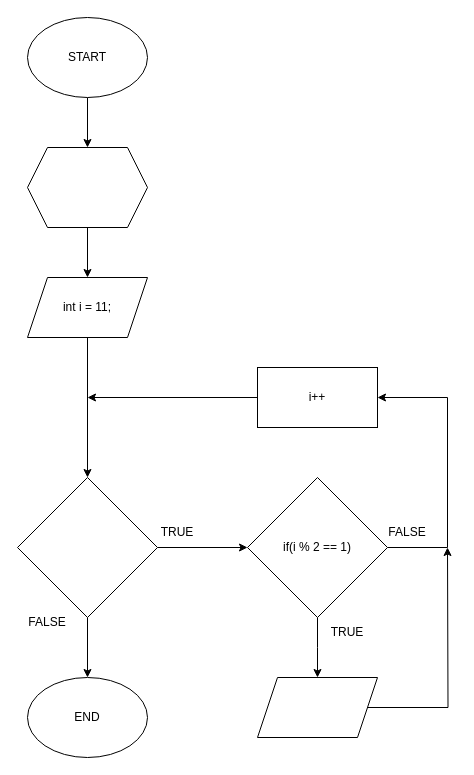
The diagram is 474 pixels wide and 775 high, and some of its shapes have lost their labels. The shapes that lost their labels are listed below. From the top down, each one's centre as x and y in pixels, then its label:
pixel 87 187: int i;
pixel 87 547: for i < 188
pixel 317 707: print(i + "odd number");
